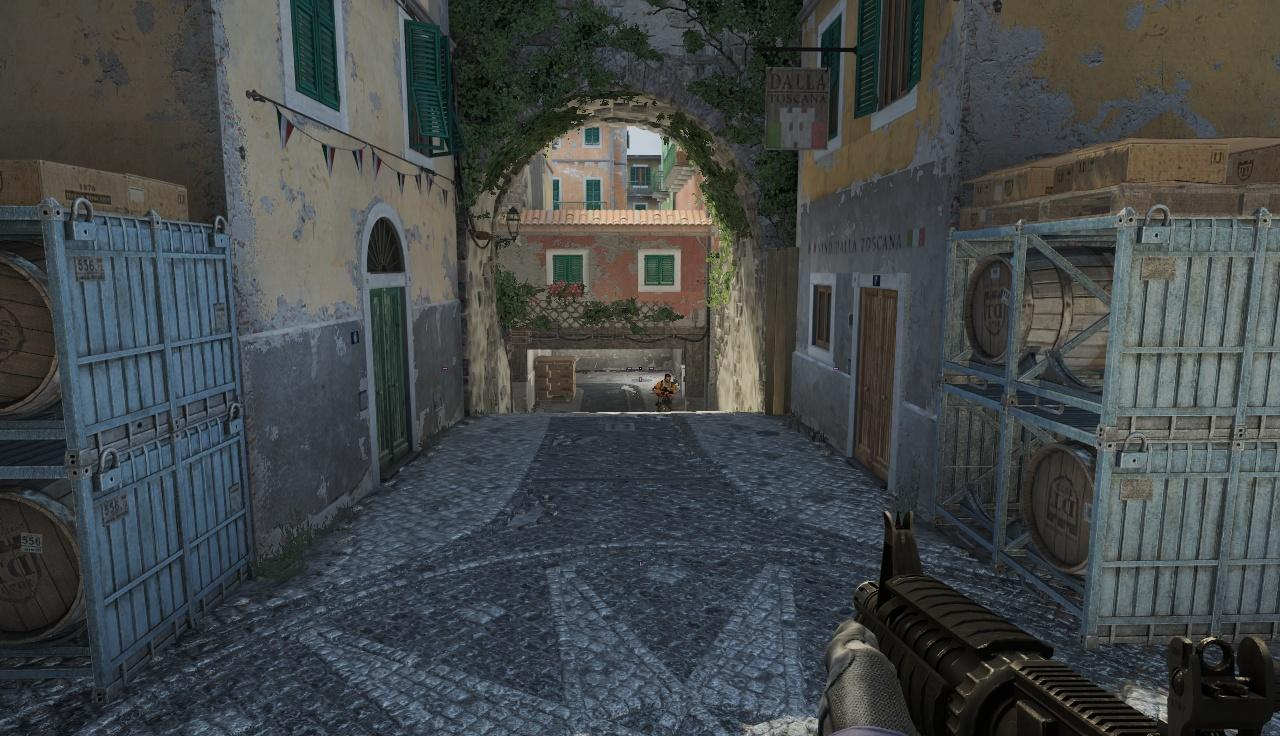rifle: (837, 514, 1280, 736)
tt: (655, 374, 675, 413)
tthead: (664, 373, 671, 382)
